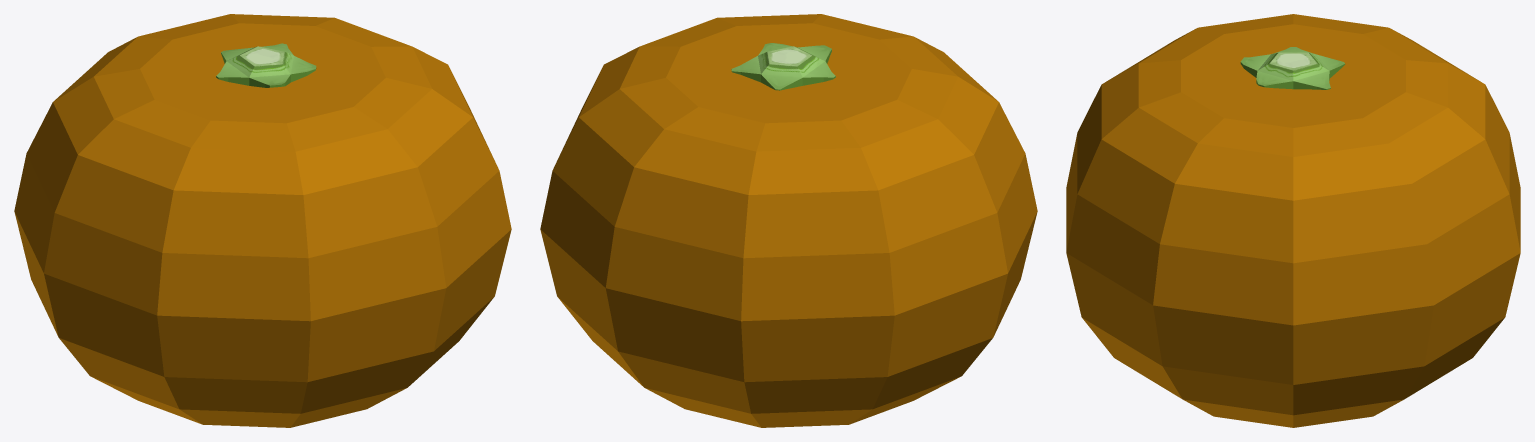
The model's file is orange.fbx.
3 renders of one model, left to right at view 1: azimuth 30°, elevation 25°; view 2: azimuth 150°, elevation 25°; view 3: azimuth 270°, elevation 25°, orthographic.
Parts seen in each view (by area): view 1: orange2; view 2: orange2; view 3: orange2.
Boxes of the visible parts, x1,y1,x2,y2 form: orange2: (14,14,511,427); orange2: (540,14,1037,427); orange2: (1066,14,1520,427).
Bounding box in the file's own units: 13.13 × 9.65 × 12.
Materials: 2 (1 with a texture image).
